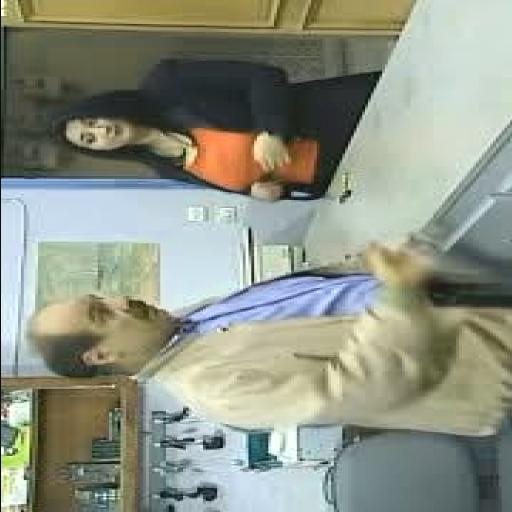beji_matrix: (31, 296, 174, 378)
